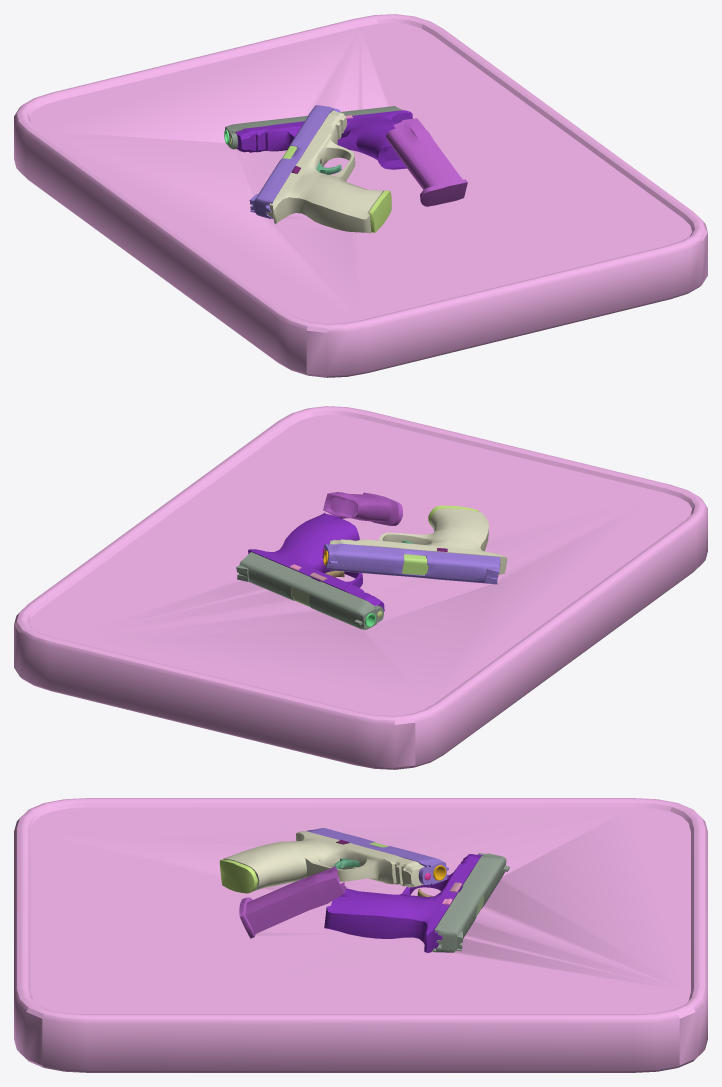
3 views of the same model, one above another, from view 1: azimuth 30°, elevation 25°; view 2: azimuth 150°, elevation 25°; view 3: azimuth 270°, elevation 25° (orthographic). The views are drawn at different scales.
Visible parts, largest first — view 1: split_parent_3, Object_21, Object_6, Object_18, Object_30, split_parent_2, Object_27; view 2: split_parent_3, Object_30, split_parent_2, Object_6, Object_21, Object_18; view 3: split_parent_3, Object_21, Object_6, Object_18, split_parent_2, Object_30, Object_27.
Boxes of the visible parts, box(x1,y1,x2,y2) form: split_parent_3: box(14, 14, 707, 377); Object_21: box(266, 110, 383, 233); Object_6: box(235, 110, 412, 169); Object_18: box(385, 118, 467, 206); Object_30: box(249, 105, 340, 219); split_parent_2: box(225, 106, 402, 149); Object_27: box(369, 190, 391, 232); split_parent_3: box(14, 406, 707, 769); Object_30: box(322, 543, 500, 584); split_parent_2: box(236, 552, 383, 629); Object_6: box(248, 513, 384, 611); Object_21: box(329, 508, 507, 575); Object_18: box(323, 492, 402, 525); split_parent_3: box(14, 798, 707, 1072); Object_21: box(219, 831, 424, 890); Object_6: box(324, 854, 482, 952); Object_18: box(239, 866, 346, 938); split_parent_2: box(432, 853, 509, 952); Object_30: box(306, 828, 448, 885); Object_27: box(219, 859, 257, 893).
Size of the model in its own units: 0.7623 by 0.1767 by 1.
